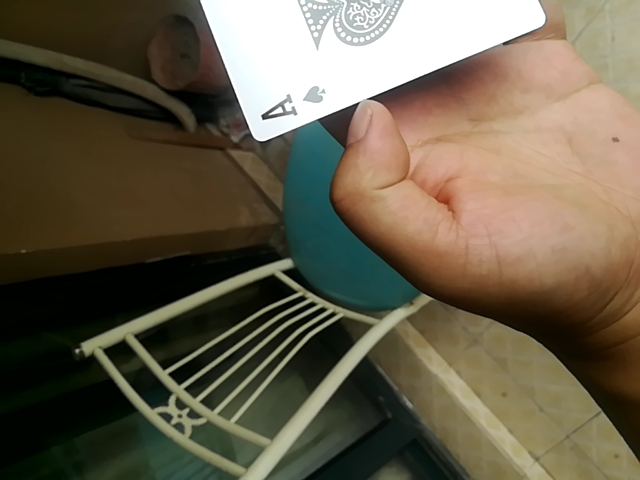ht a: (159, 0, 558, 145)
